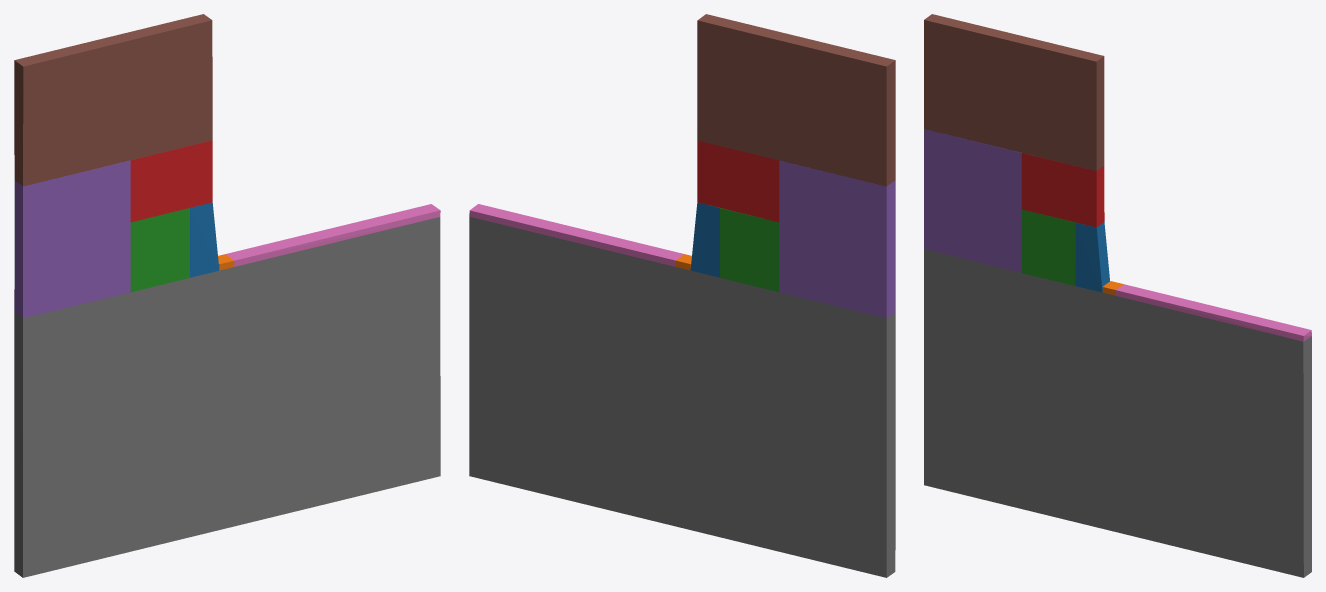
File: Ceiling_cvx.obj
The picture shows the model from 3 angles, left to right: view 1: azimuth 30°, elevation 25°; view 2: azimuth 150°, elevation 25°; view 3: azimuth 330°, elevation 25°; orthographic projection. The views are drawn at different scales.
Visible parts, largest first — view 1: scenes/apartment_0000_coacd/output/Unknown/Ceiling/cvx/Ceiling00; view 2: scenes/apartment_0000_coacd/output/Unknown/Ceiling/cvx/Ceiling00; view 3: scenes/apartment_0000_coacd/output/Unknown/Ceiling/cvx/Ceiling00.
Boxes of the visible parts, box(x1,y1,x2,y2) form: scenes/apartment_0000_coacd/output/Unknown/Ceiling/cvx/Ceiling00: box(14, 14, 440, 577); scenes/apartment_0000_coacd/output/Unknown/Ceiling/cvx/Ceiling00: box(469, 14, 895, 577); scenes/apartment_0000_coacd/output/Unknown/Ceiling/cvx/Ceiling00: box(924, 14, 1311, 577).
Size of the model in its own units: 11.18 by 13.09 by 0.4223.
